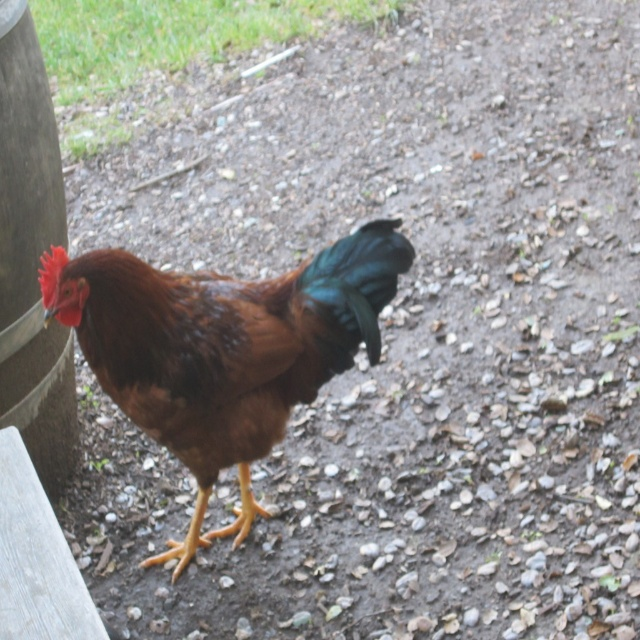Chicken: (37, 217, 420, 586)
